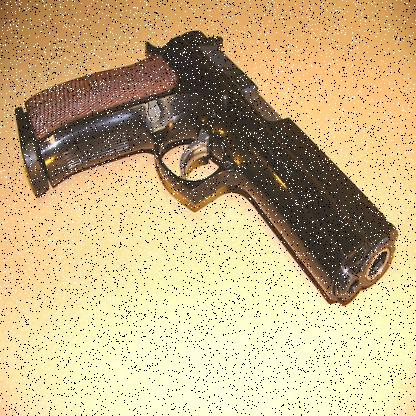pistol: (13, 18, 397, 309)
